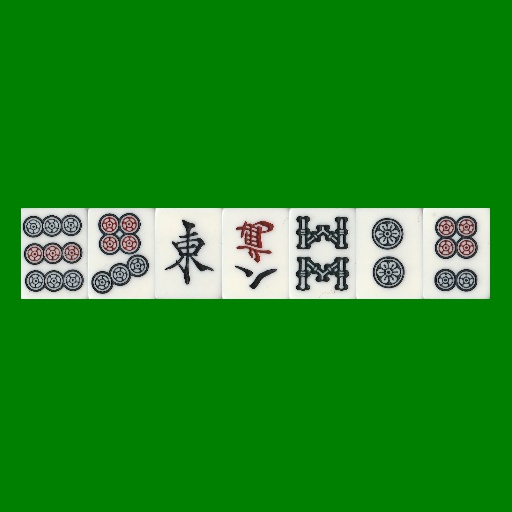2p: (356, 208, 423, 299)
6p: (423, 208, 490, 299)
7p: (88, 208, 155, 299)
8m: (222, 208, 289, 299)
8s: (289, 208, 356, 299)
9p: (21, 208, 88, 299)
east: (155, 208, 222, 299)
